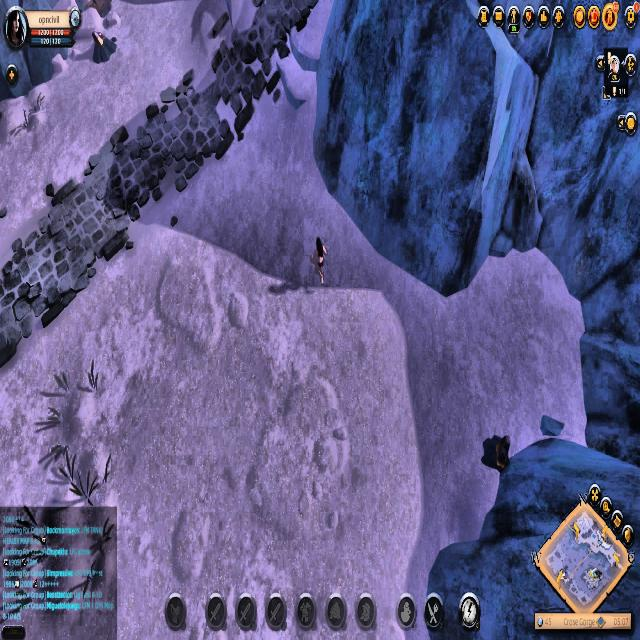copper_ore: (482, 426, 510, 475), (89, 25, 116, 67)
